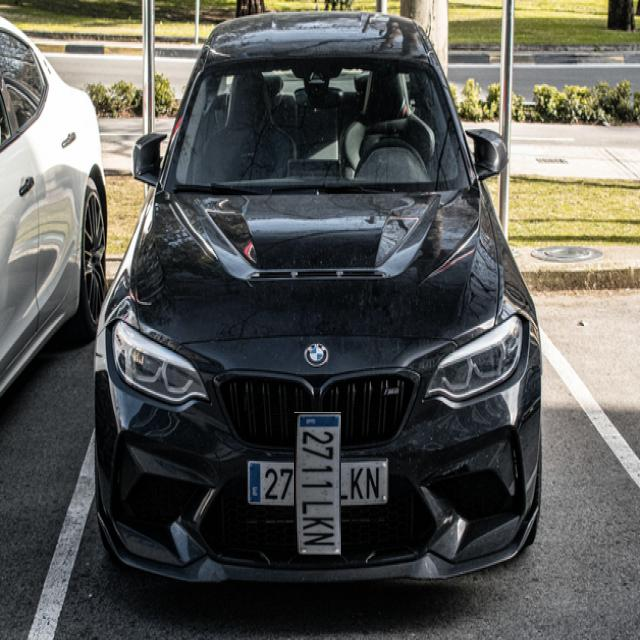License-Plate: (270, 436, 365, 531)
